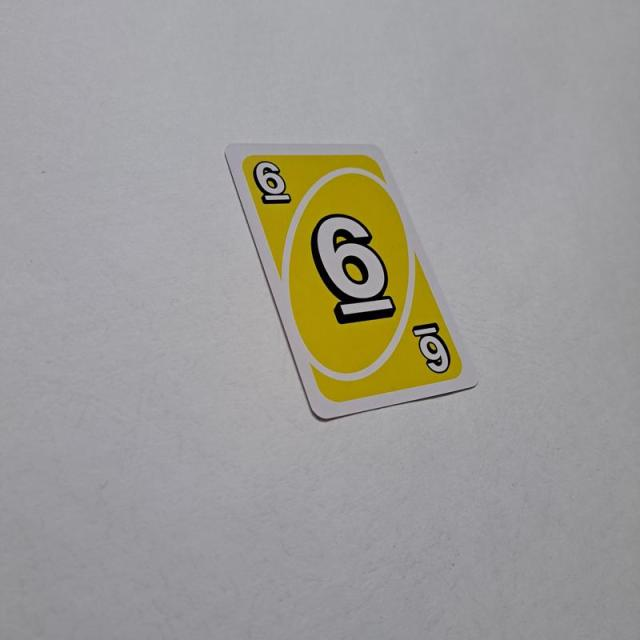Number_6: (252, 155, 295, 208)
Yellow_Card: (233, 147, 464, 406)
